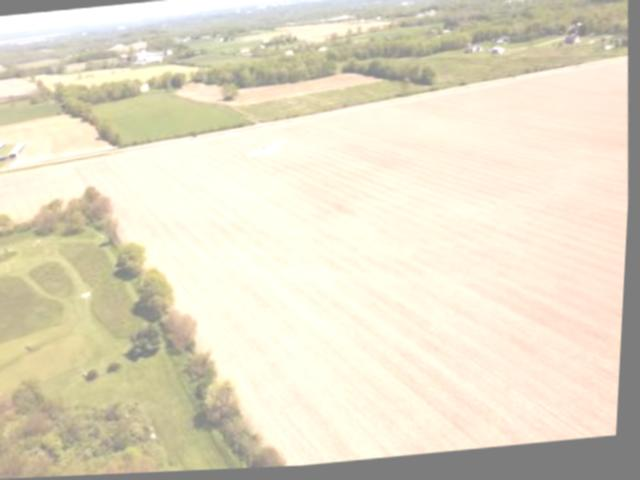uav: (246, 129, 296, 173)
